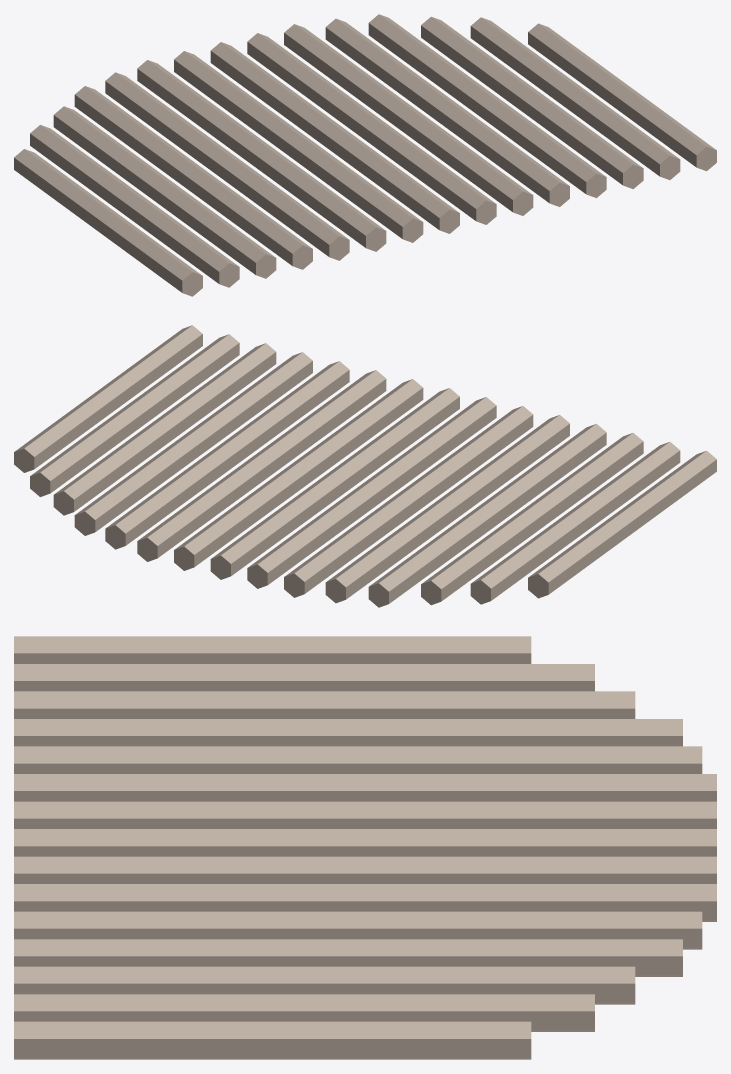
File: Prop_Big_Fence.fbx
The picture shows the model from 3 angles, top to bottom: view 1: azimuth 30°, elevation 25°; view 2: azimuth 150°, elevation 25°; view 3: azimuth 270°, elevation 25°; orthographic projection. The views are drawn at different scales.
Visible parts, largest first — view 1: Cylinder.001; view 2: Cylinder.001; view 3: Cylinder.001.
Boxes of the visible parts, box(x1,y1,x2,y2) form: Cylinder.001: box(14, 14, 716, 296); Cylinder.001: box(14, 325, 716, 607); Cylinder.001: box(14, 636, 716, 1059).
Size of the model in its own units: 1504 by 66.26 by 1115.
